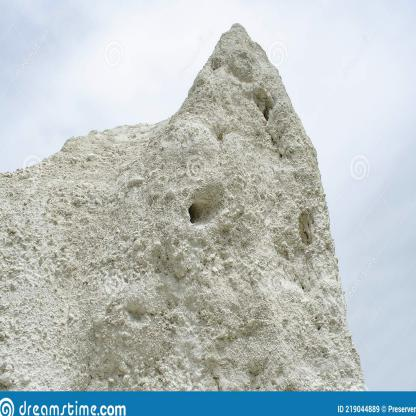Sedimentary_Chalk: (0, 13, 366, 388)
